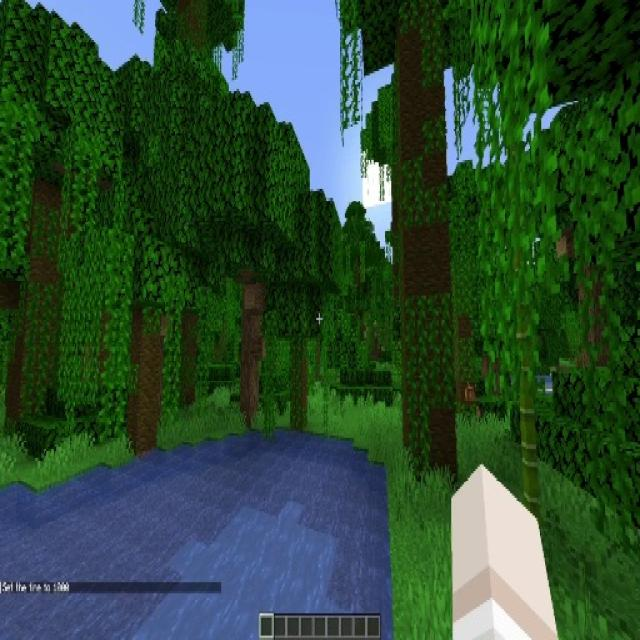jungle: (342, 0, 498, 486), (0, 17, 127, 431), (96, 202, 184, 448)
jungle_log: (394, 39, 461, 486), (394, 32, 456, 486), (16, 193, 66, 414), (136, 303, 162, 456), (290, 339, 308, 428), (292, 340, 307, 429)
oak: (193, 92, 314, 432)
oak_log: (241, 288, 261, 423)
